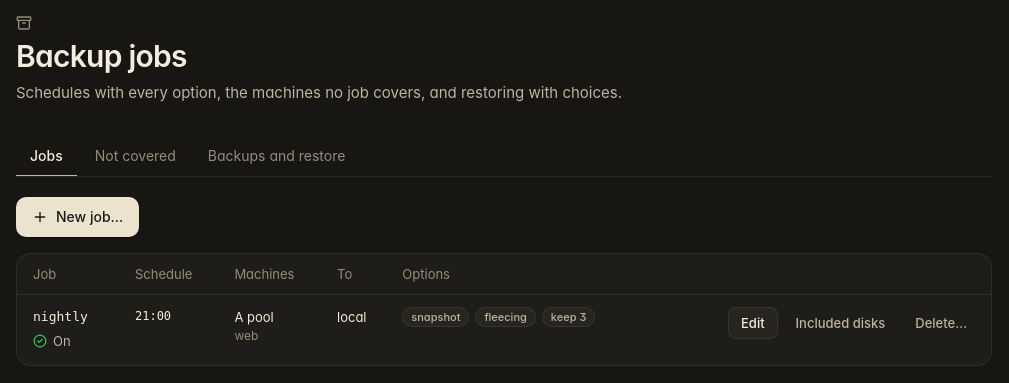
it: backup jobs › shows who a job covers and its options, and lists machines no job covers
Expected: the text "nightly" is shown, [33, 308, 88, 324]
Expected: the text "A pool" is shown, [234, 308, 274, 324]
Click the tab "Not covered": click(135, 157) [81, 137, 190, 177]
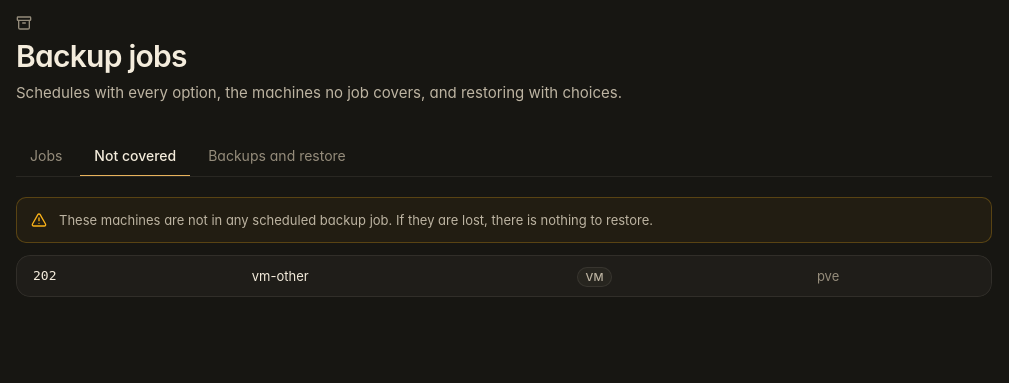
Now the text "vm-other" is shown, box [240, 256, 565, 296]
